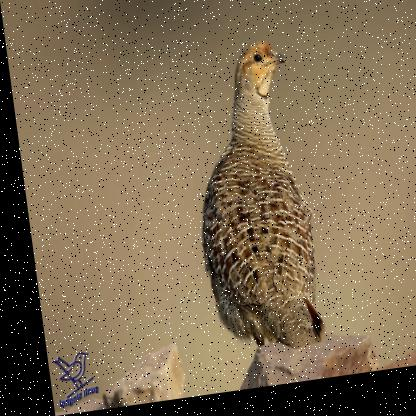Burung: (175, 44, 322, 365)
